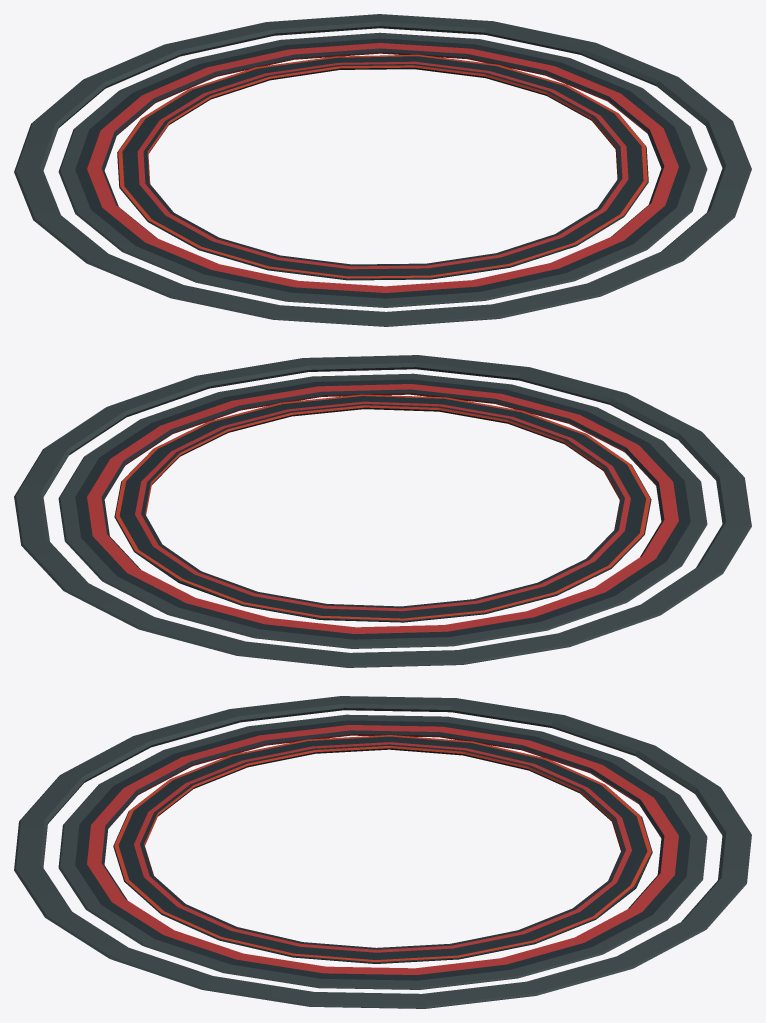
File: Broken_Planet_Rings_LOD1.fbx
3 renders of one model, top to bottom at view 1: azimuth 30°, elevation 25°; view 2: azimuth 150°, elevation 25°; view 3: azimuth 270°, elevation 25°, orthographic.
Visible parts, largest first — view 1: Broken_Planet_Rings_LOD1; view 2: Broken_Planet_Rings_LOD1; view 3: Broken_Planet_Rings_LOD1.
Boxes of the visible parts, x1,y1,x2,y2 form: Broken_Planet_Rings_LOD1: (14,14,751,326); Broken_Planet_Rings_LOD1: (14,355,751,667); Broken_Planet_Rings_LOD1: (14,696,751,1008).
Size of the model in its own units: 42495 by 473 by 42495.
